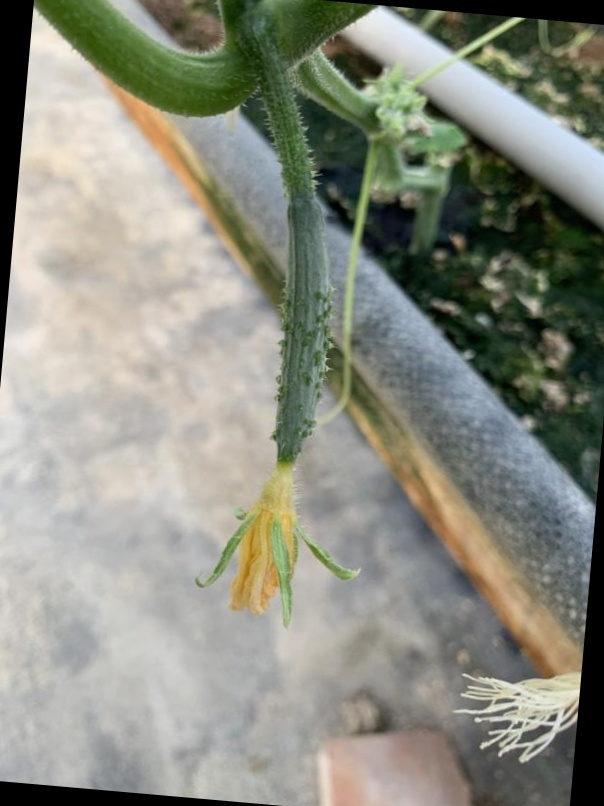bear: (185, 175, 370, 640)
